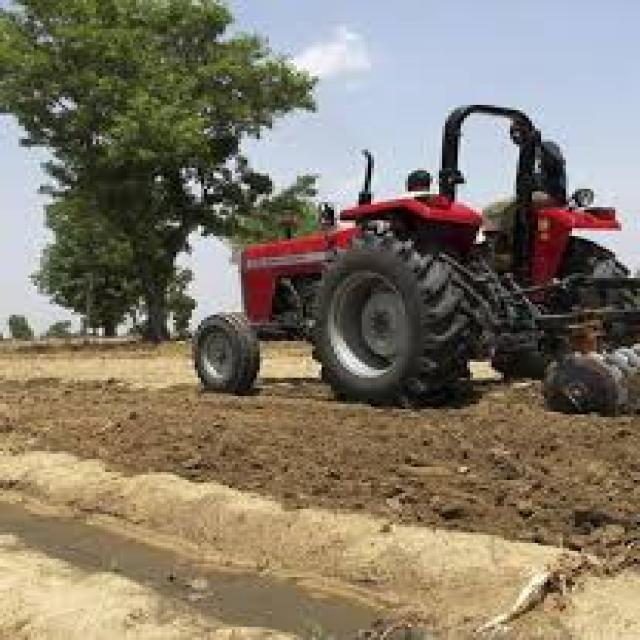tractor: (195, 105, 637, 404)
